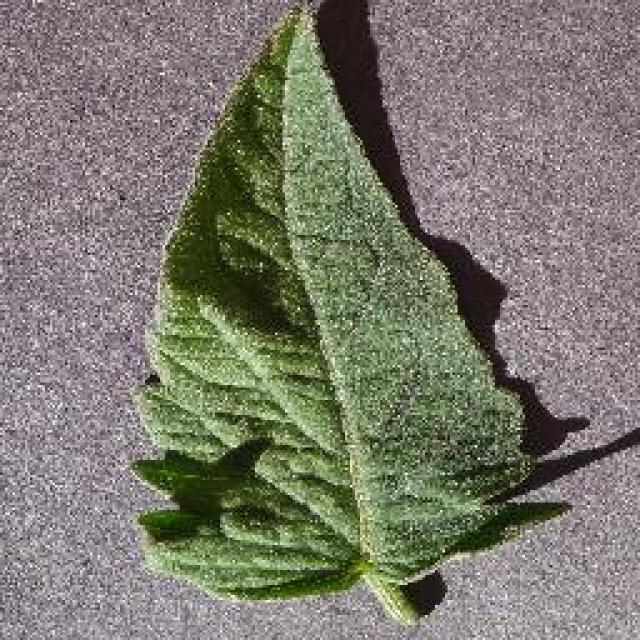Tomato___healthy: (124, 0, 576, 627)
